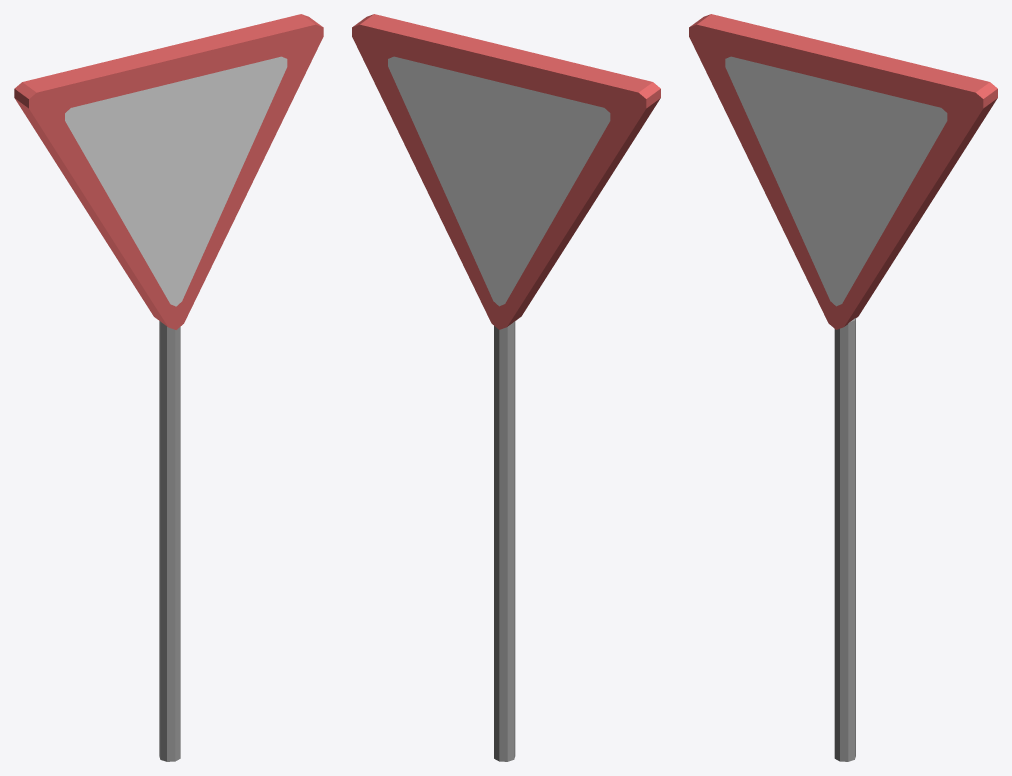
File: schild.fbx
The picture shows the model from 3 angles, left to right: view 1: azimuth 30°, elevation 25°; view 2: azimuth 150°, elevation 25°; view 3: azimuth 330°, elevation 25°; orthographic projection.
Parts seen in each view (by area): view 1: polySurface316; view 2: polySurface316; view 3: polySurface316.
Boxes of the visible parts, x1,y1,x2,y2 form: polySurface316: [14, 14, 323, 761]; polySurface316: [352, 14, 660, 761]; polySurface316: [689, 14, 997, 761].
Size of the model in its own units: 5.47 by 12.52 by 0.4676.
